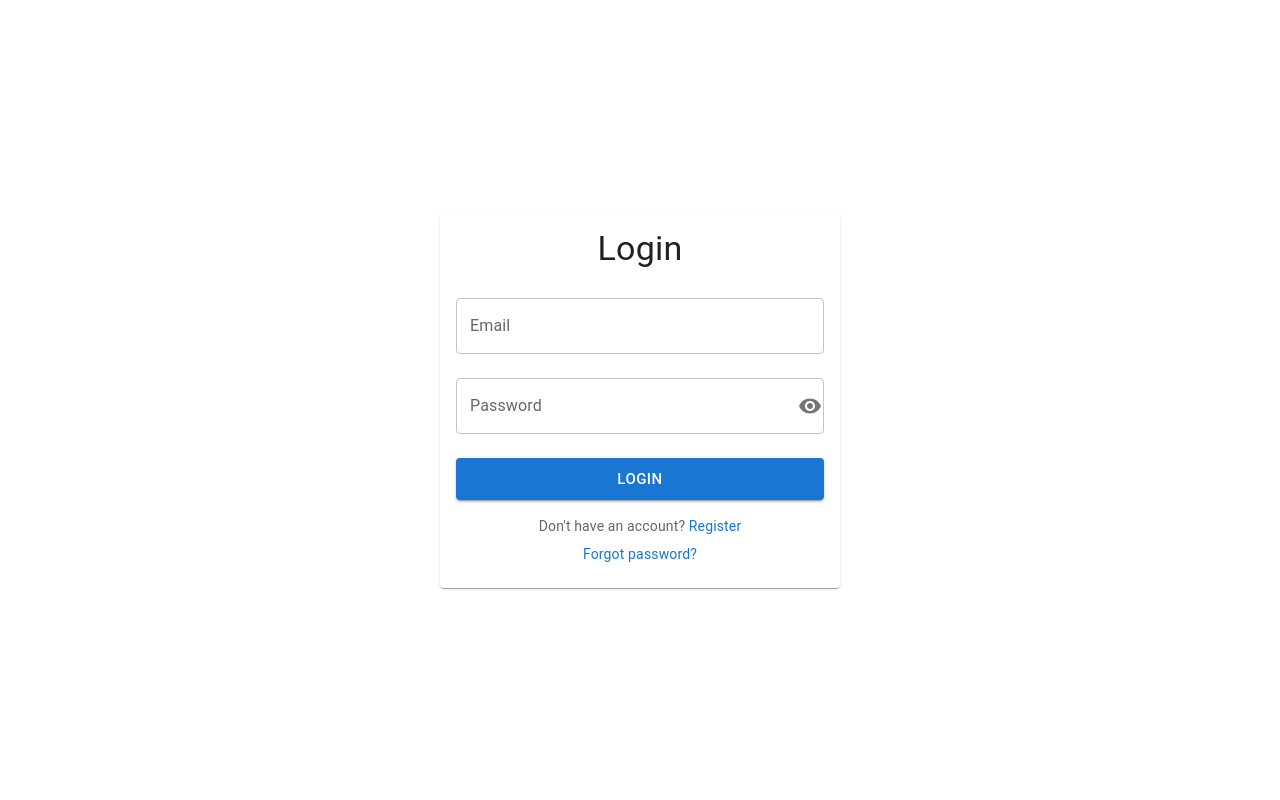
LoginForm › should show validation error for empty email
# Submit without filling email
Type "password123" into the password field labelled "Password" at (623, 406), box top-left (456, 378), bottom-right (790, 434)
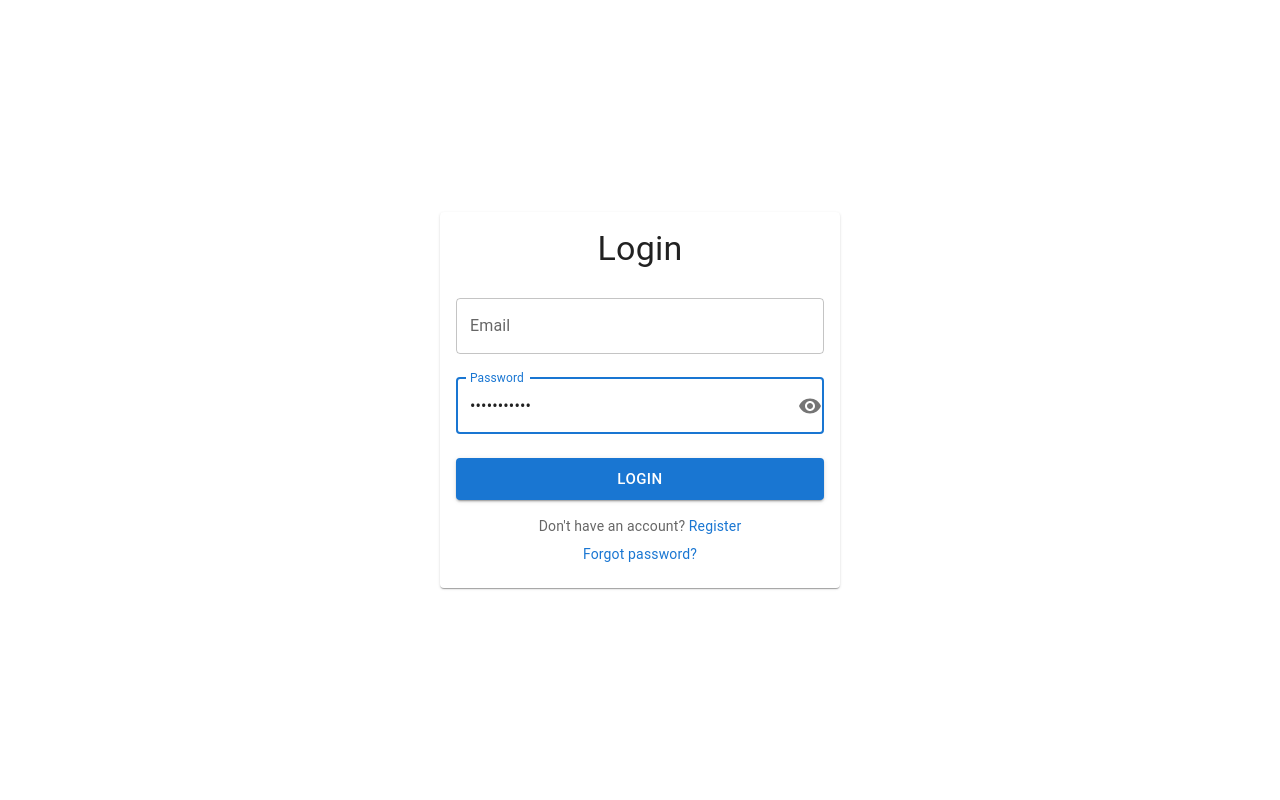
Click the button "Login" at (640, 479), box top-left (456, 458), bottom-right (824, 500)
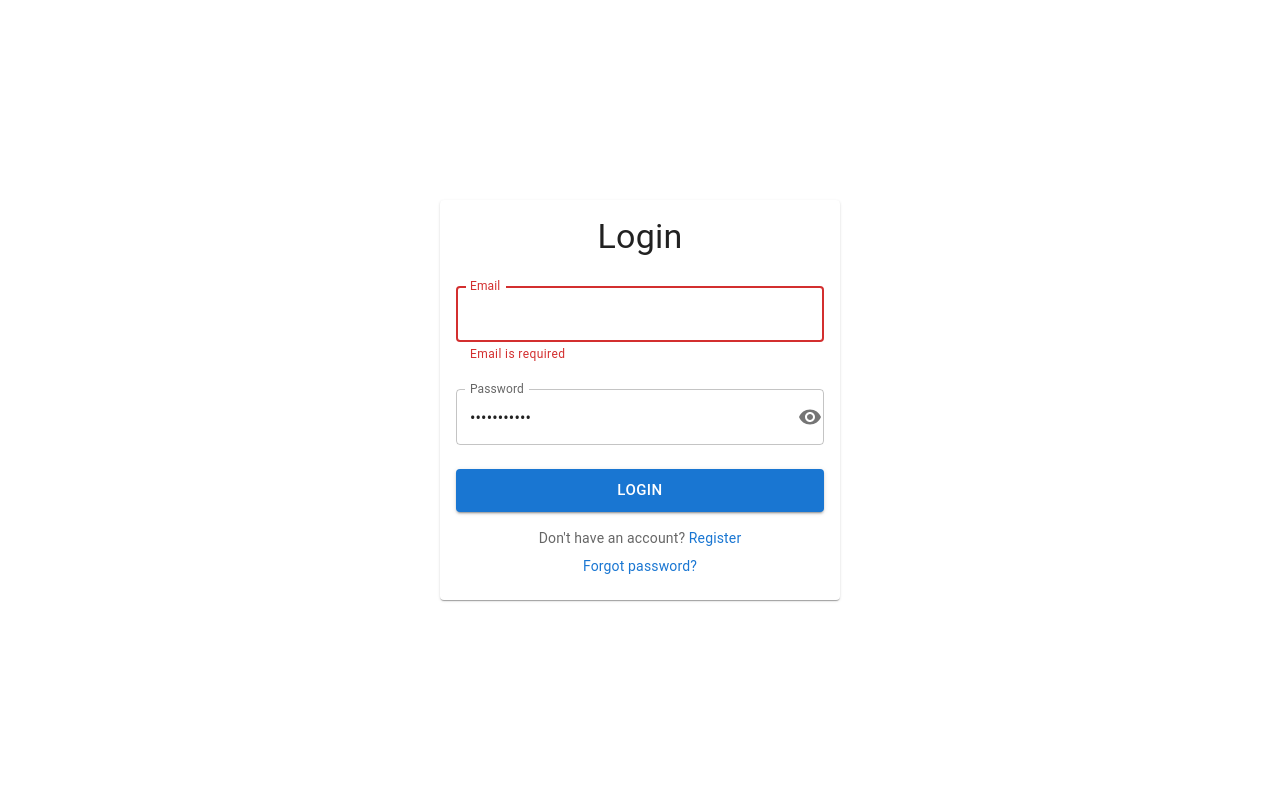
Now the text "Email is required" is shown, box top-left (470, 347), bottom-right (565, 361)
